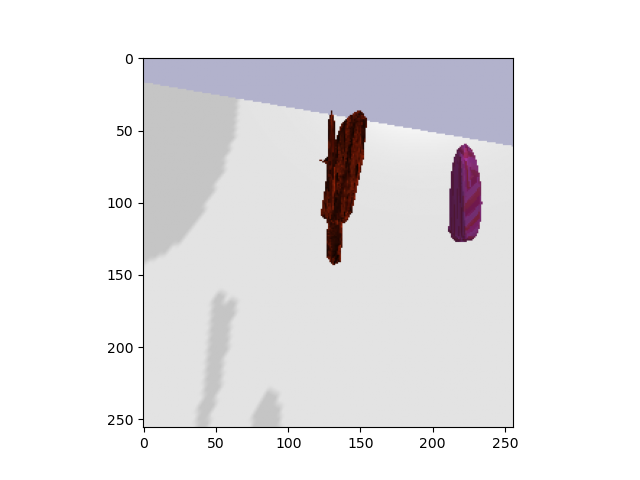v249b387_105: (444, 141, 487, 245)
v249b387_107: (310, 105, 372, 278)
